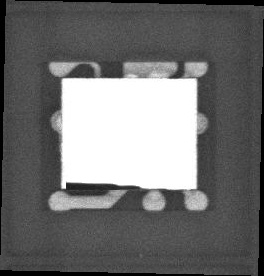DIE_BROKEN: (63, 180, 144, 190)
